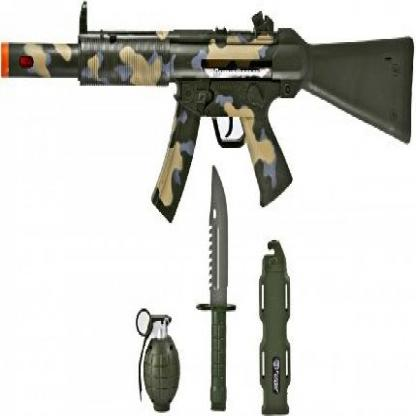Grenade: (133, 306, 181, 414)
Gun: (0, 0, 416, 225)
Knife: (195, 163, 239, 412)
